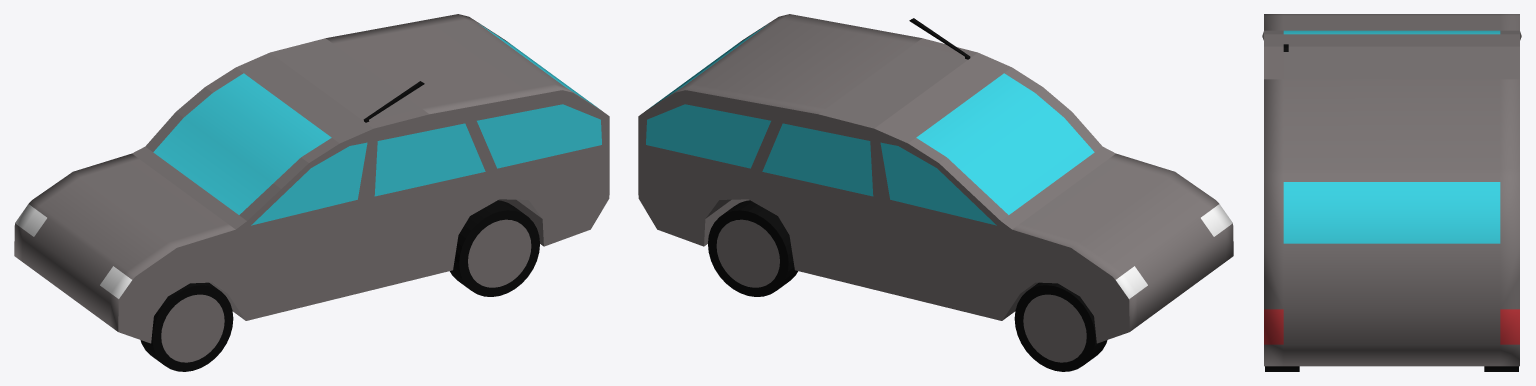
Rendered from car1_fbx.fbx.
3 renders of one model, left to right at view 1: azimuth 30°, elevation 25°; view 2: azimuth 150°, elevation 25°; view 3: azimuth 270°, elevation 25°, orthographic. The views are drawn at different scales.
Parts seen in each view (by area): view 1: Cube; view 2: Cube; view 3: Cube.
Part boxes in pixels (x1=…): Cube: x1=14, y1=14, x2=609, y2=371; Cube: x1=638, y1=14, x2=1233, y2=371; Cube: x1=1262, y1=14, x2=1521, y2=371.
Size of the model in its own units: 382 by 167 by 142.
